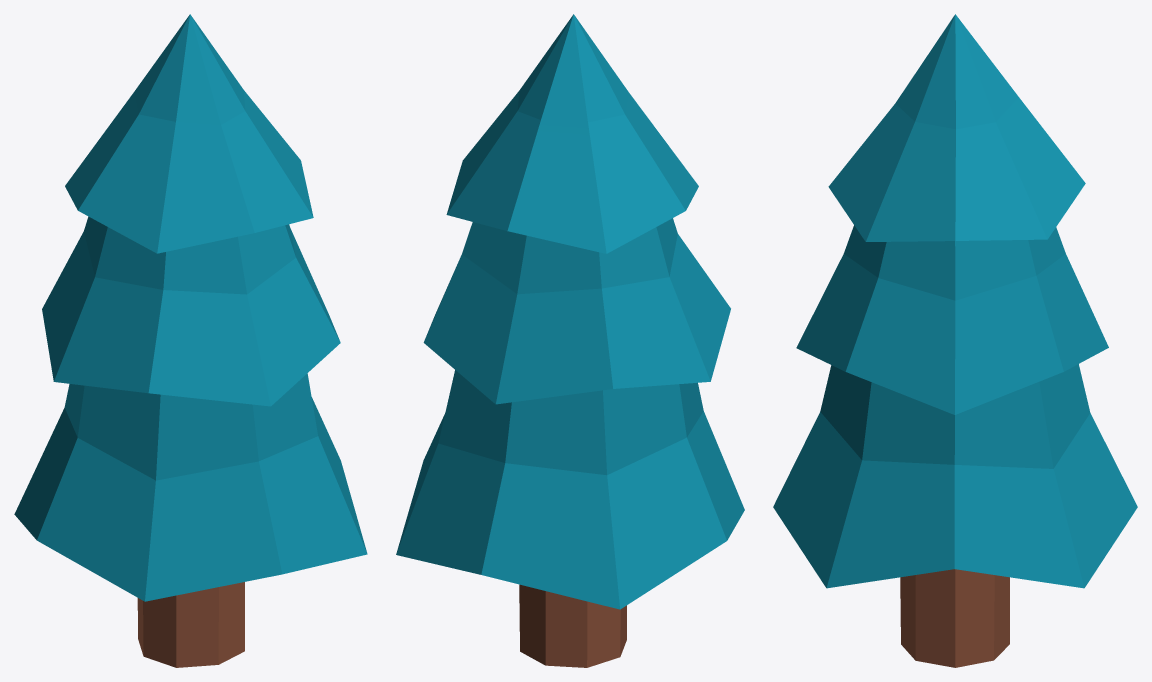
Rendered from TreeBlue.obj.
3 renders of one model, left to right at view 1: azimuth 30°, elevation 25°; view 2: azimuth 150°, elevation 25°; view 3: azimuth 270°, elevation 25°, orthographic.
Parts seen in each view (by area): view 1: Tree_01_summer_blue; view 2: Tree_01_summer_blue; view 3: Tree_01_summer_blue.
Boxes of the visible parts, x1,y1,x2,y2 form: Tree_01_summer_blue: [14, 14, 367, 667]; Tree_01_summer_blue: [396, 14, 744, 667]; Tree_01_summer_blue: [773, 14, 1137, 667].
Bounding box in the file's own units: 0.8322 × 1.65 × 0.8678.
